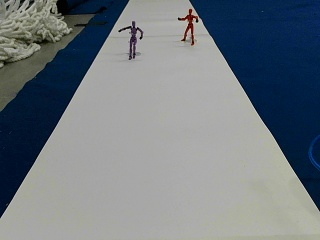pedestrian: (118, 20, 142, 58), (178, 8, 198, 44)
